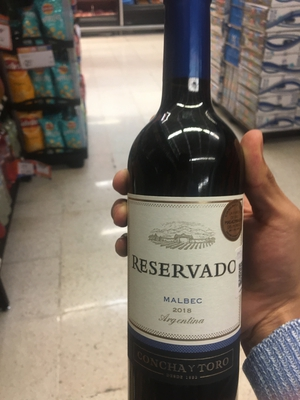reservado malbec: (124, 5, 246, 400)
